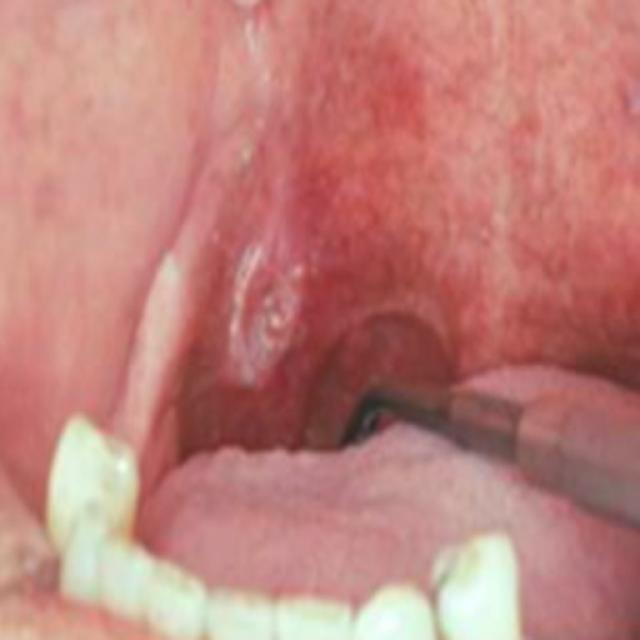cancer-detection: (122, 166, 328, 436)
processing_area: (3, 0, 639, 638)
